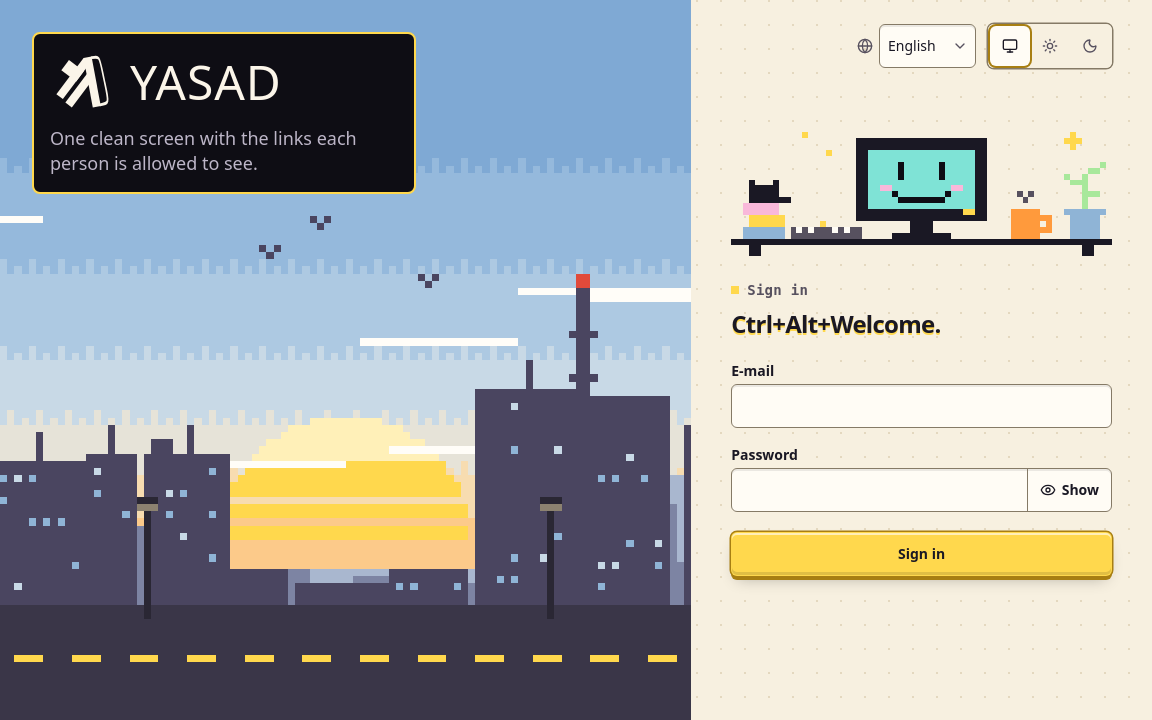
Test: App › switches language and appearance from the signed-out screen
The width and height of the screenshot is (1152, 720).
Click the radio button named "Dark".
click(1090, 46)  # box [1070,26,1110,66]
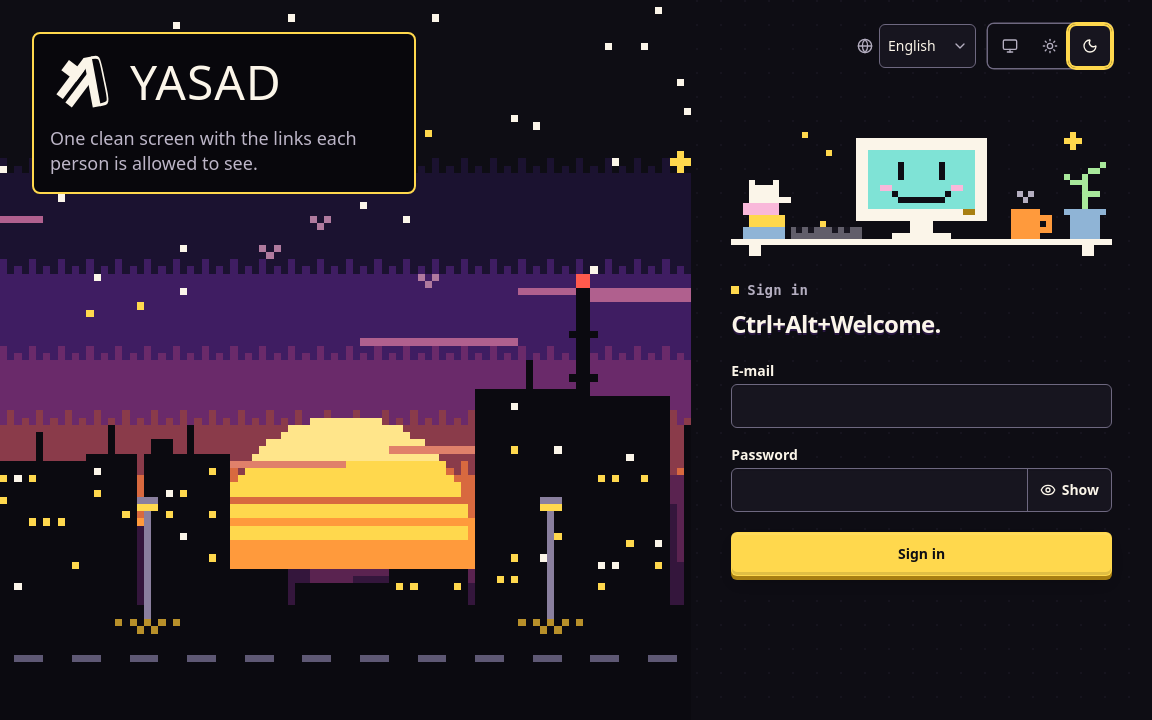
Select "Français" in the dropdown named "Language / Langue" at (928, 46), box [879,24,976,68]
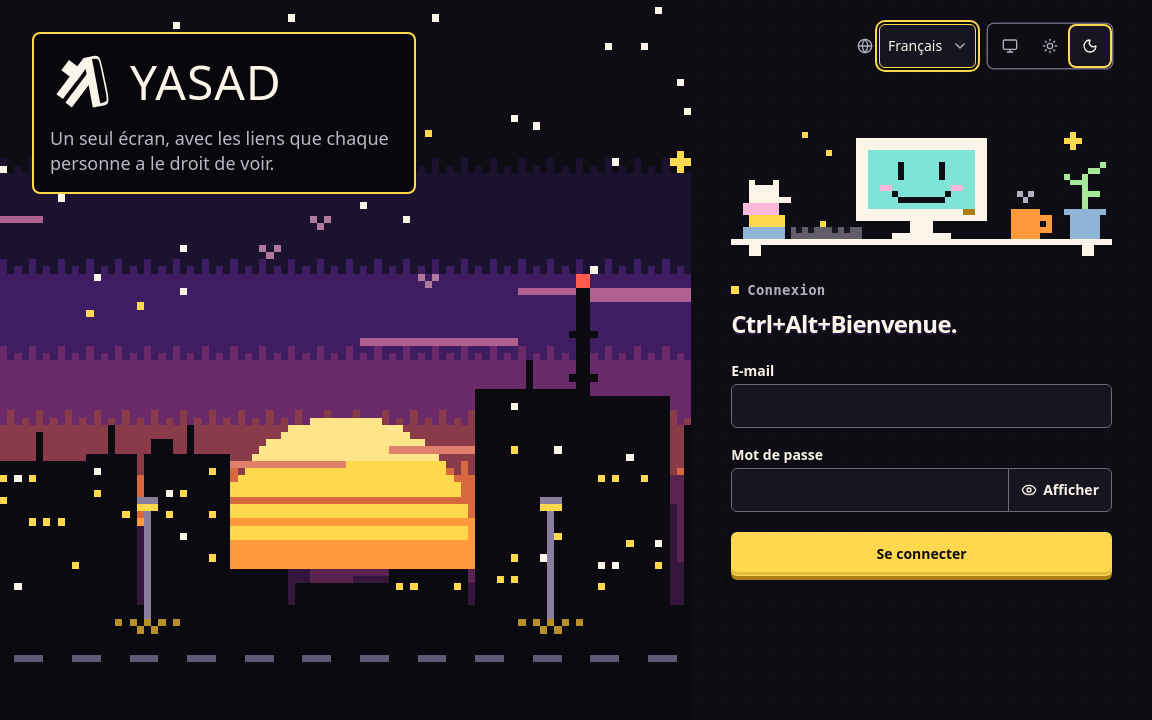
Expected: the heading "Connexion" is shown, [731,282,826,298]
